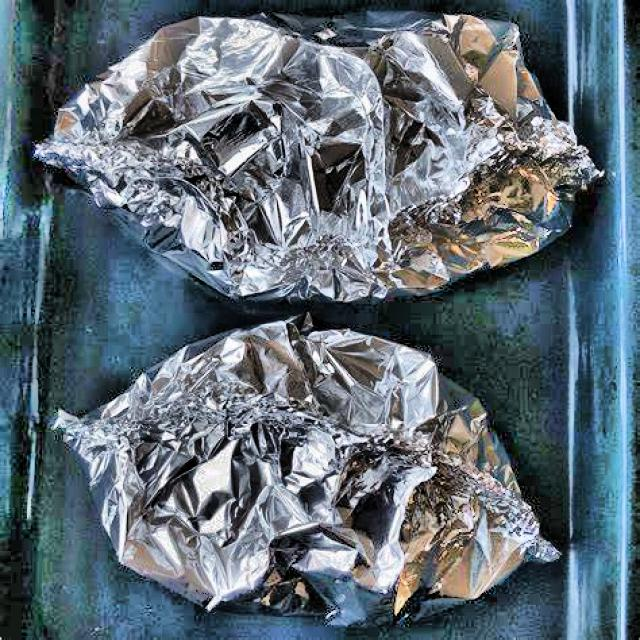Foil: (26, 0, 602, 315), (48, 307, 574, 628)
